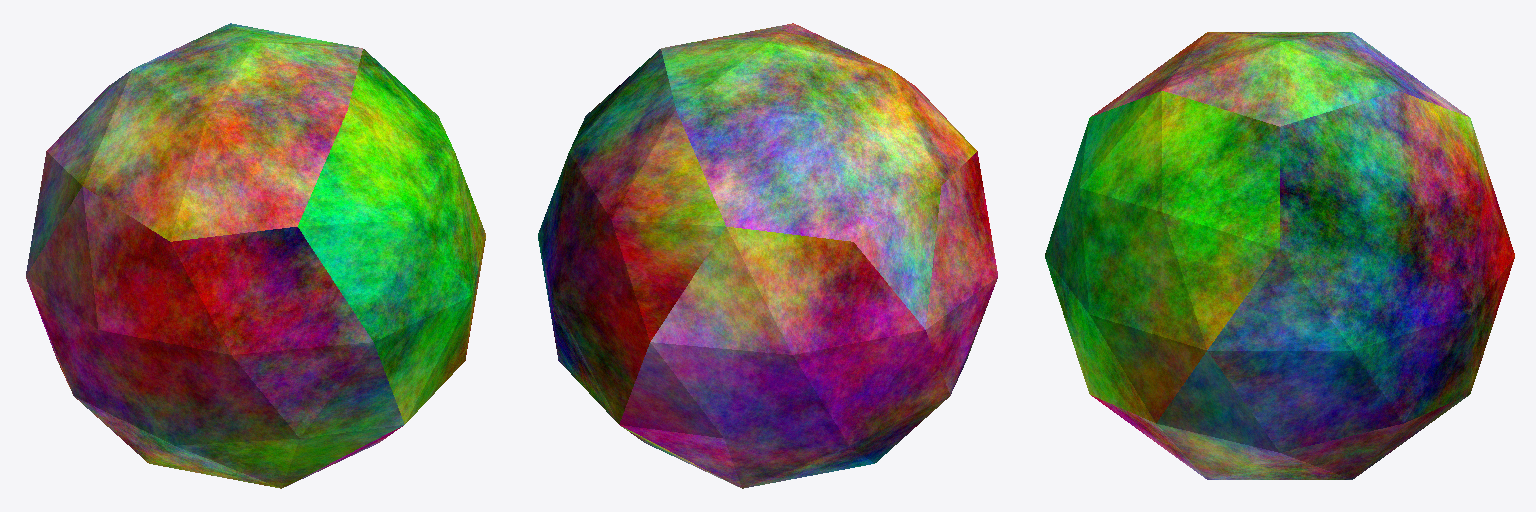
The picture shows the model from 3 angles: view 1: azimuth 30°, elevation 25°; view 2: azimuth 150°, elevation 25°; view 3: azimuth 270°, elevation 25°; orthographic projection.
Visible parts, largest first — view 1: Icosphere; view 2: Icosphere; view 3: Icosphere.
Part boxes in pixels (bbox=[...]): Icosphere: bbox=[26, 23, 485, 488]; Icosphere: bbox=[538, 23, 997, 488]; Icosphere: bbox=[1045, 32, 1514, 479].
Size of the model in its own units: 573 by 602 by 602.
1 materials, 1 textured.